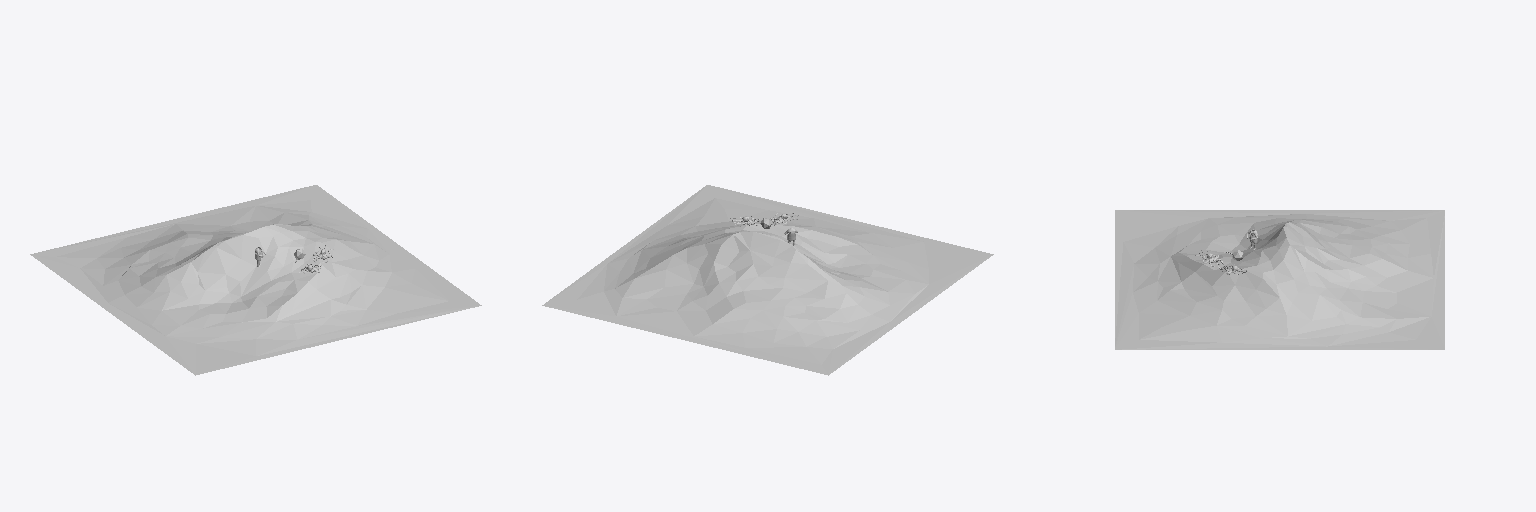
File: trump.obj
The picture shows the model from 3 angles: view 1: azimuth 30°, elevation 25°; view 2: azimuth 150°, elevation 25°; view 3: azimuth 270°, elevation 25°; orthographic projection.
Parts seen in each view (by area): view 1: körper.1; view 2: körper.1; view 3: körper.1.
Boxes of the visible parts, x1=… form: körper.1: x1=30, y1=185, x2=481, y2=375; körper.1: x1=542, y1=185, x2=993, y2=375; körper.1: x1=1115, y1=210, x2=1444, y2=349.
Size of the model in its own units: 600 by 96.29 by 600.